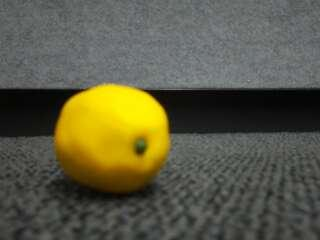lemon: (55, 87, 173, 195)
